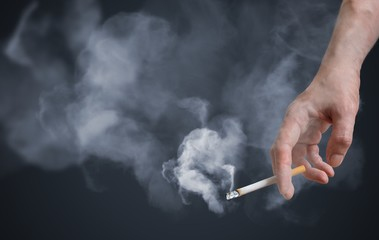cigarette: (224, 163, 307, 201)
